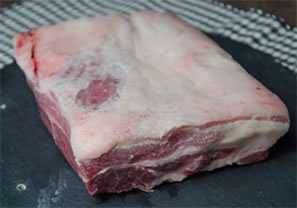bacon: (9, 11, 273, 181)
